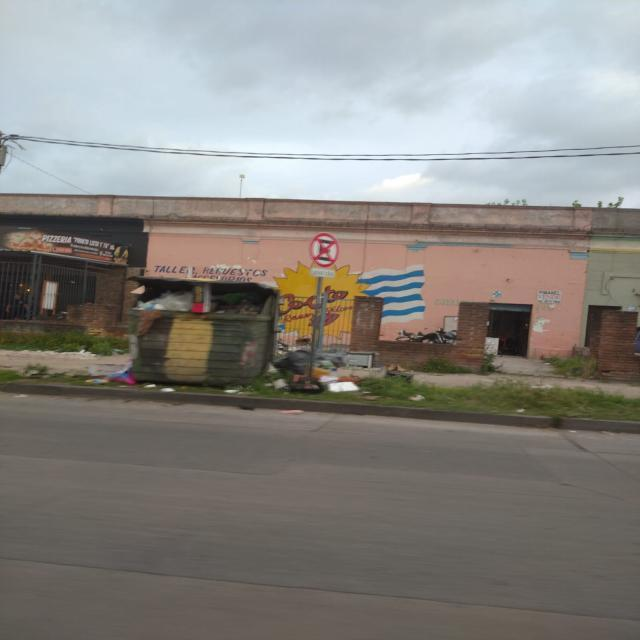garbage: (105, 286, 297, 328), (264, 344, 362, 416), (70, 355, 148, 400)
